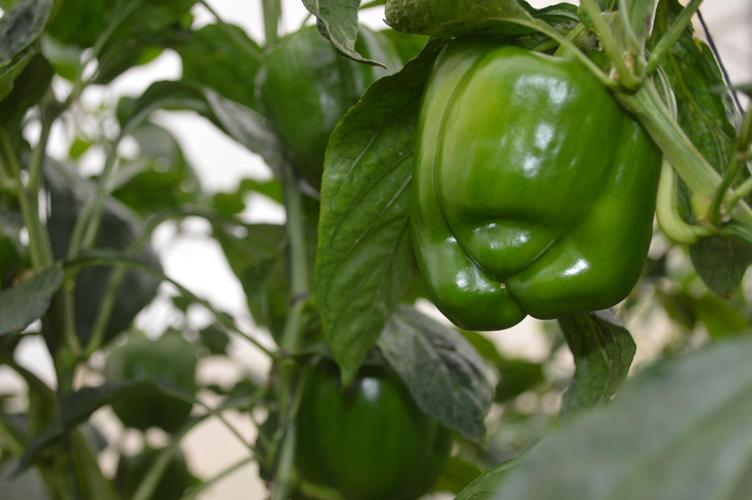BellPepper: (409, 40, 660, 323), (294, 367, 448, 493), (263, 26, 385, 171), (100, 336, 198, 428)
